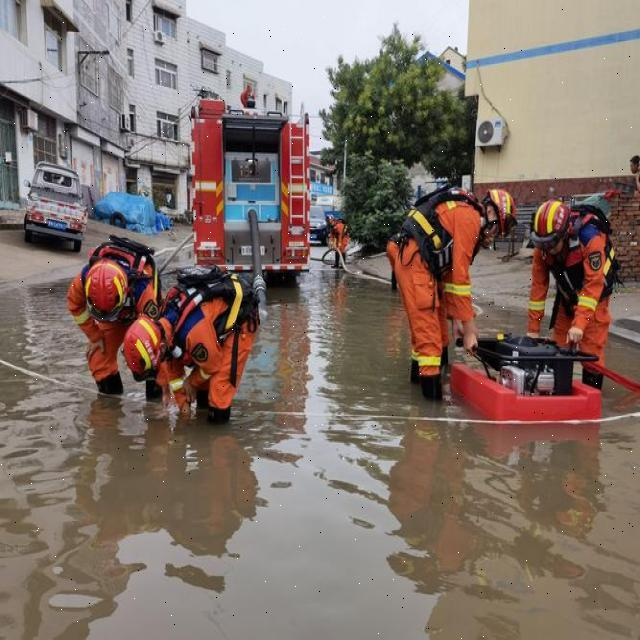rescuer: (384, 176, 521, 394), (127, 266, 258, 424), (72, 236, 164, 413), (530, 191, 619, 352)
